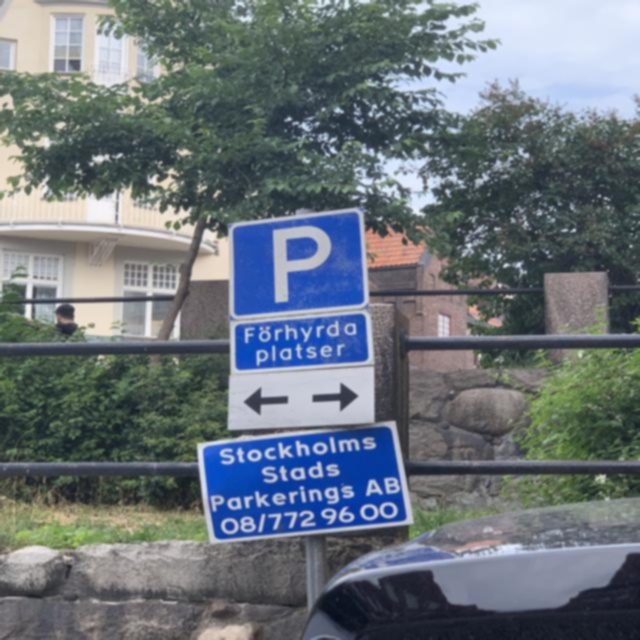P-skylt: (225, 206, 366, 321)
